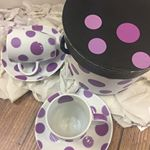cups: (44, 92, 108, 142), (4, 25, 59, 78)
